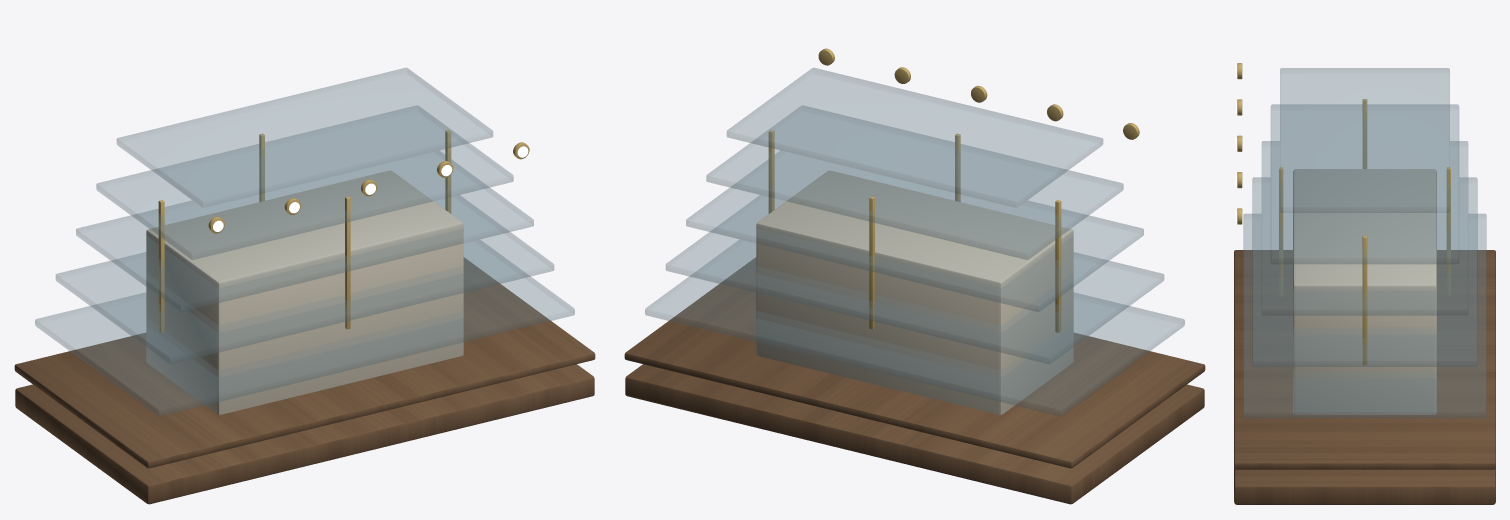
File: pf_display_luxury_display_island_t5.glb
3 renders of one model, left to right at view 1: azimuth 30°, elevation 25°; view 2: azimuth 150°, elevation 25°; view 3: azimuth 270°, elevation 25°, orthographic. The views are drawn at different scales.
Parts seen in each view (by area): view 1: Island_Core, Island_Deck_01, Island_Deck_05, Island_Deck_06, Island_Deck_04, Island_Deck_02, Island_Base, Island_Deck_03, Island_Brass_Post_3, Island_Brass_Post_4; view 2: Island_Core, Island_Deck_01, Island_Deck_05, Island_Deck_06, Island_Deck_04, Island_Deck_02, Island_Base, Island_Deck_03, Island_Brass_Post_3, Island_Brass_Post_2; view 3: Island_Core, Island_Deck_01, Island_Deck_05, Island_Deck_06, Island_Deck_02, Island_Deck_03, Island_Deck_04, Island_Base, Island_Brass_Post_1, Island_Brass_Post_2, Island_Brass_Post_4, Island_Brass_Post_3.
Part boxes in pixels (x1,y1,x2,y2): Island_Core: (146, 170, 463, 414); Island_Deck_01: (14, 257, 595, 468); Island_Deck_05: (96, 105, 513, 259); Island_Deck_06: (117, 68, 492, 207); Island_Deck_04: (76, 151, 533, 311); Island_Deck_02: (35, 240, 574, 415); Island_Base: (15, 364, 594, 504); Island_Deck_03: (56, 195, 553, 363); Island_Brass_Post_3: (158, 200, 164, 332); Island_Brass_Post_4: (345, 196, 350, 329); Island_Core: (756, 170, 1073, 414); Island_Deck_01: (624, 257, 1205, 468); Island_Deck_05: (706, 105, 1123, 259); Island_Deck_06: (727, 68, 1102, 207); Island_Deck_04: (686, 151, 1143, 311); Island_Deck_02: (645, 240, 1184, 415); Island_Base: (625, 364, 1204, 504); Island_Deck_03: (666, 195, 1163, 363); Island_Brass_Post_3: (1055, 200, 1061, 332); Island_Brass_Post_2: (869, 196, 874, 329); Island_Core: (1293, 169, 1436, 414); Island_Deck_01: (1234, 250, 1495, 469); Island_Deck_05: (1271, 104, 1458, 263); Island_Deck_06: (1280, 68, 1449, 212); Island_Deck_02: (1243, 214, 1486, 417); Island_Deck_03: (1252, 177, 1477, 366); Island_Deck_04: (1262, 141, 1467, 315); Island_Base: (1234, 468, 1495, 504); Island_Brass_Post_1: (1362, 235, 1367, 365); Island_Brass_Post_2: (1446, 167, 1450, 296); Island_Brass_Post_4: (1279, 167, 1283, 296); Island_Brass_Post_3: (1362, 99, 1367, 168).
Size of the model in its own units: 2.8 by 1.7 by 1.45.
6 materials, 1 textured.
